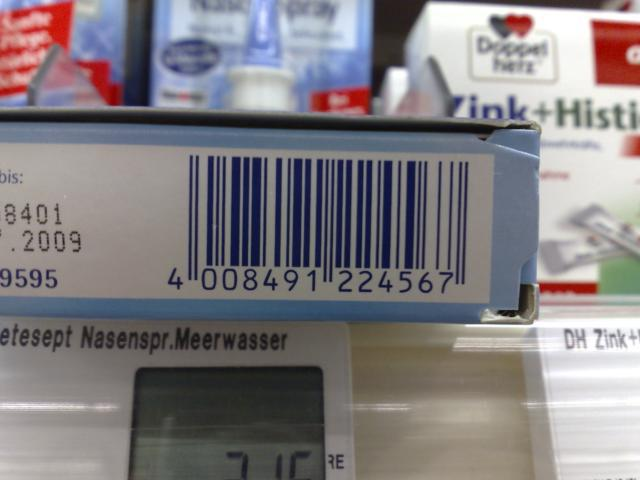Barkod: (186, 154, 467, 269)
